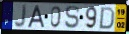0: (50, 6, 62, 28)
9: (84, 6, 98, 30)
A: (26, 4, 46, 29)
D: (98, 6, 116, 31)
J: (13, 4, 28, 29)
S: (64, 5, 81, 30)
